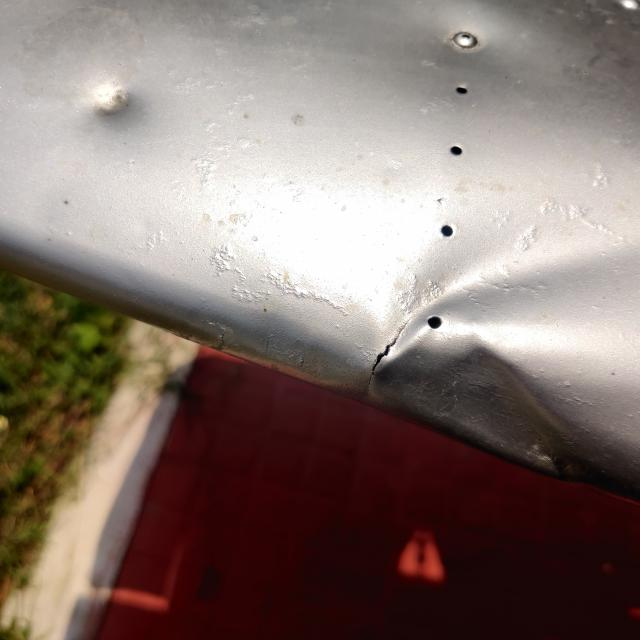crack: (348, 299, 431, 414)
dent: (356, 214, 640, 504), (70, 62, 164, 149)
